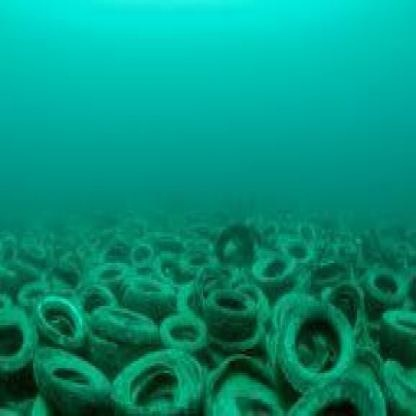tire: (278, 284, 367, 400), (107, 346, 204, 416), (41, 292, 107, 378), (29, 354, 112, 416), (98, 287, 160, 359), (209, 282, 269, 356), (166, 310, 204, 346)
